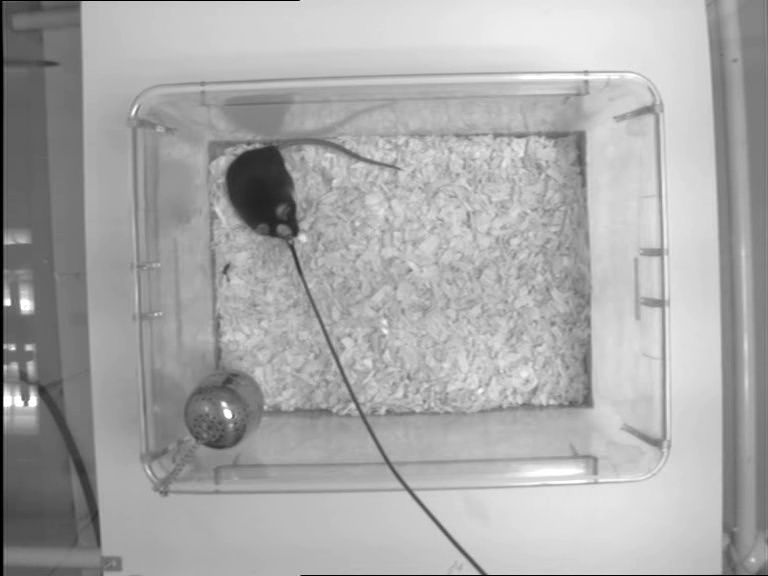mice: (225, 135, 403, 241)
